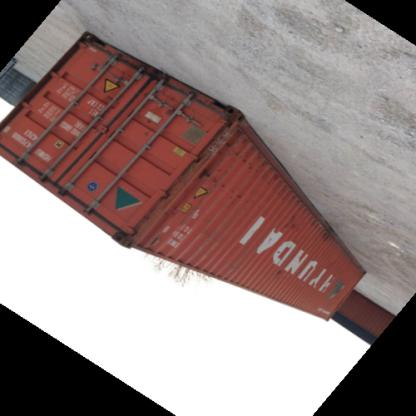Damage: (198, 170, 245, 206), (226, 142, 264, 184), (263, 263, 289, 283), (278, 219, 302, 240), (138, 118, 158, 142), (99, 89, 119, 110), (318, 228, 334, 250), (303, 289, 320, 307)
